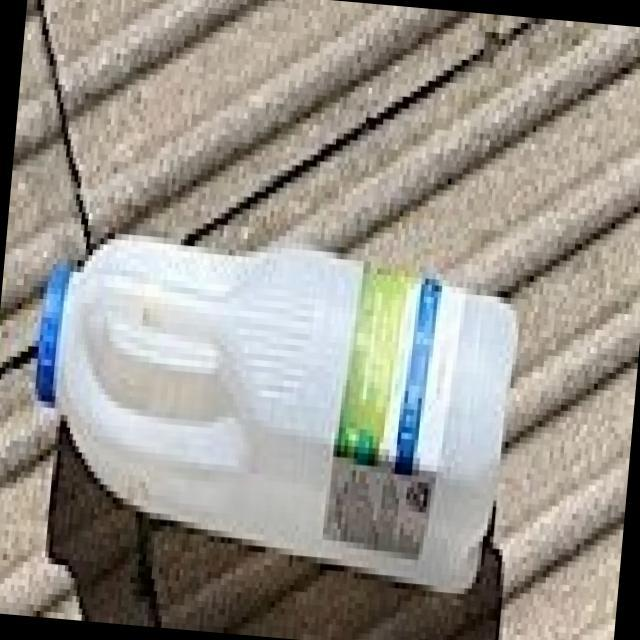HDPE Plastic: (32, 228, 518, 600)
